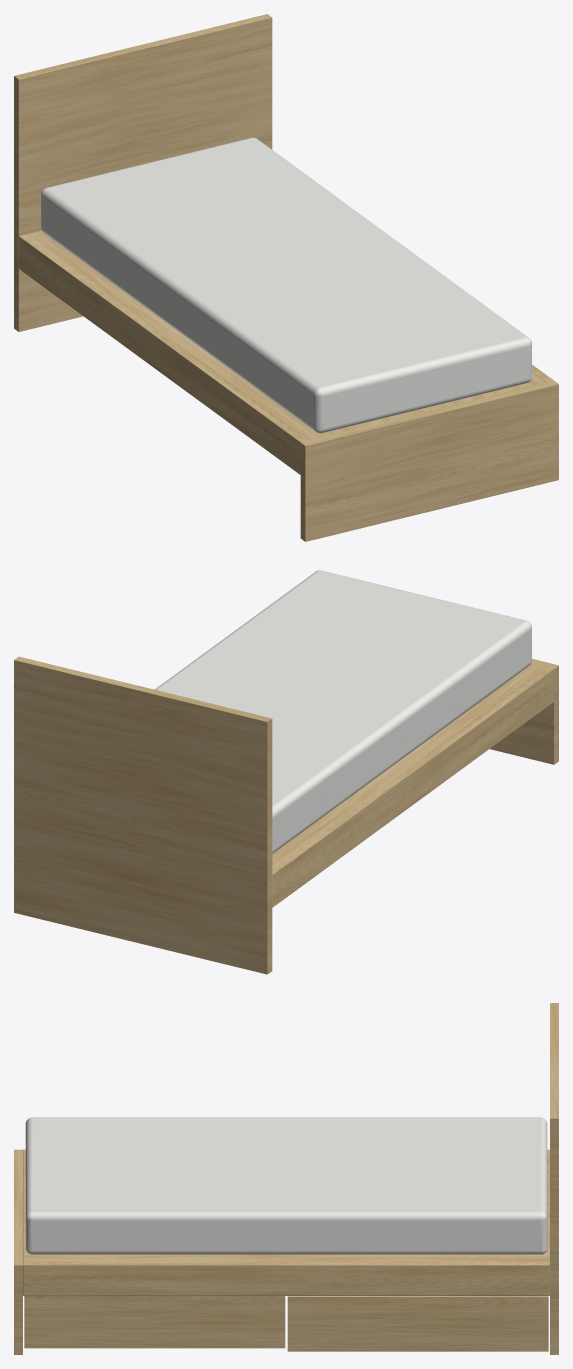
The model's file is small_oak_bed.glb.
3 renders of one model, top to bottom at view 1: azimuth 30°, elevation 25°; view 2: azimuth 150°, elevation 25°; view 3: azimuth 270°, elevation 25°, orthographic. The views are drawn at different scales.
Visible parts, largest first — view 1: Mattress_90x200cm_Estimated18cmThick, Headboard_100cm, Footboard_38cm, Left_Side_Rail, Mattress_Support_Deck_Assumed; view 2: Headboard_100cm, Mattress_90x200cm_Estimated18cmThick, Left_Side_Rail, Mattress_Support_Deck_Assumed, Footboard_38cm; view 3: Mattress_90x200cm_Estimated18cmThick, Right_Side_Rail, Drawer_02_Oak_Front, Drawer_01_Oak_Front, Mattress_Support_Deck_Assumed, Headboard_100cm, Footboard_38cm.
Boxes of the visible parts, <box> form: Mattress_90x200cm_Estimated18cmThick: <box>41,137,531,433</box>; Headboard_100cm: <box>14,14,272,331</box>; Footboard_38cm: <box>300,380,558,541</box>; Left_Side_Rail: <box>19,234,308,474</box>; Mattress_Support_Deck_Assumed: <box>27,230,545,440</box>; Headboard_100cm: <box>14,656,272,974</box>; Mattress_90x200cm_Estimated18cmThick: <box>155,570,531,853</box>; Left_Side_Rail: <box>272,667,553,907</box>; Mattress_Support_Deck_Assumed: <box>272,663,544,866</box>; Footboard_38cm: <box>490,659,558,764</box>; Mattress_90x200cm_Estimated18cmThick: <box>25,1117,547,1254</box>; Right_Side_Rail: <box>23,1261,549,1295</box>; Drawer_02_Oak_Front: <box>287,1296,548,1351</box>; Drawer_01_Oak_Front: <box>24,1296,285,1348</box>; Mattress_Support_Deck_Assumed: <box>23,1153,549,1261</box>; Headboard_100cm: <box>550,1003,558,1354</box>; Footboard_38cm: <box>14,1149,22,1354</box>.
Bounding box in the file's own units: 1.05 × 1 × 2.09.
Materials: 5 (2 with a texture image).
